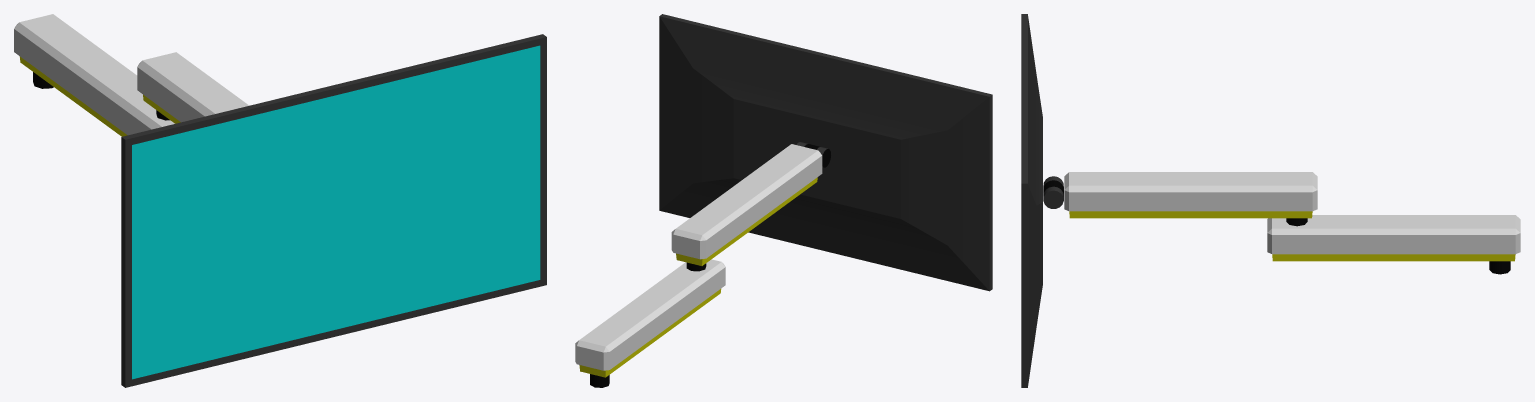
The model's file is SE_Screen_Arm_Emv.fbx.
3 views of the same model, side by side, from view 1: azimuth 30°, elevation 25°; view 2: azimuth 150°, elevation 25°; view 3: azimuth 270°, elevation 25° (orthographic). The views are drawn at different scales.
Parts seen in each view (by area): view 1: screen_arm_screen_geo, screen_arm_arm_1_geo, screen_arm_arm_2_geo; view 2: screen_arm_screen_geo, screen_arm_arm_2_geo, screen_arm_arm_1_geo; view 3: screen_arm_arm_2_geo, screen_arm_arm_1_geo, screen_arm_screen_geo.
Part boxes in pixels (x1=…): screen_arm_screen_geo: x1=121, y1=34, x2=546, y2=387; screen_arm_arm_1_geo: x1=14, y1=14, x2=174, y2=136; screen_arm_arm_2_geo: x1=137, y1=52, x2=248, y2=123; screen_arm_screen_geo: x1=659, y1=14, x2=992, y2=291; screen_arm_arm_2_geo: x1=671, y1=144, x2=822, y2=271; screen_arm_arm_1_geo: x1=575, y1=259, x2=725, y2=387; screen_arm_arm_2_geo: x1=1043, y1=172, x2=1317, y2=226; screen_arm_arm_1_geo: x1=1267, y1=215, x2=1520, y2=274; screen_arm_screen_geo: x1=1021, y1=14, x2=1063, y2=387.
Bounding box in the file's own units: 78.1 × 43.93 × 97.2.
